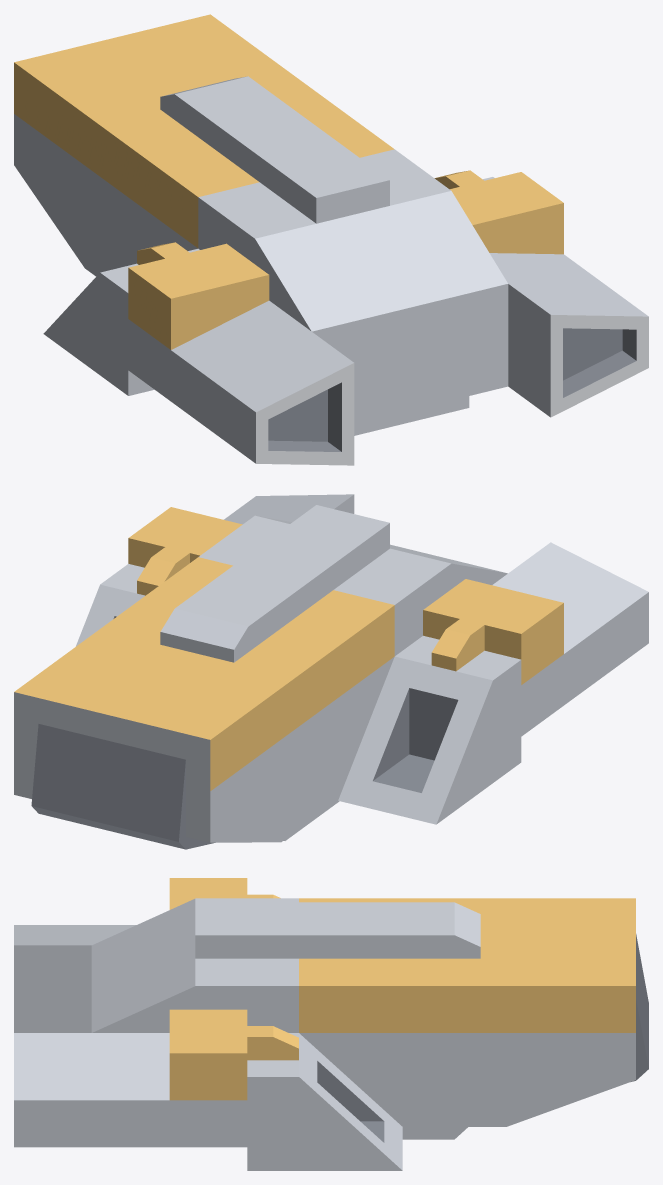
File: craft_cargoA.glb
The picture shows the model from 3 angles, top to bottom: view 1: azimuth 30°, elevation 25°; view 2: azimuth 150°, elevation 25°; view 3: azimuth 270°, elevation 25°; orthographic projection. The views are drawn at different scales.
Visible parts, largest first — view 1: craft_cargoA; view 2: craft_cargoA; view 3: craft_cargoA.
Boxes of the visible parts, x1=… form: craft_cargoA: x1=14, y1=14, x2=648, y2=465; craft_cargoA: x1=14, y1=494, x2=648, y2=849; craft_cargoA: x1=14, y1=878, x2=648, y2=1170.
Bounding box in the file's own units: 1.6 × 0.8 × 2.45.
